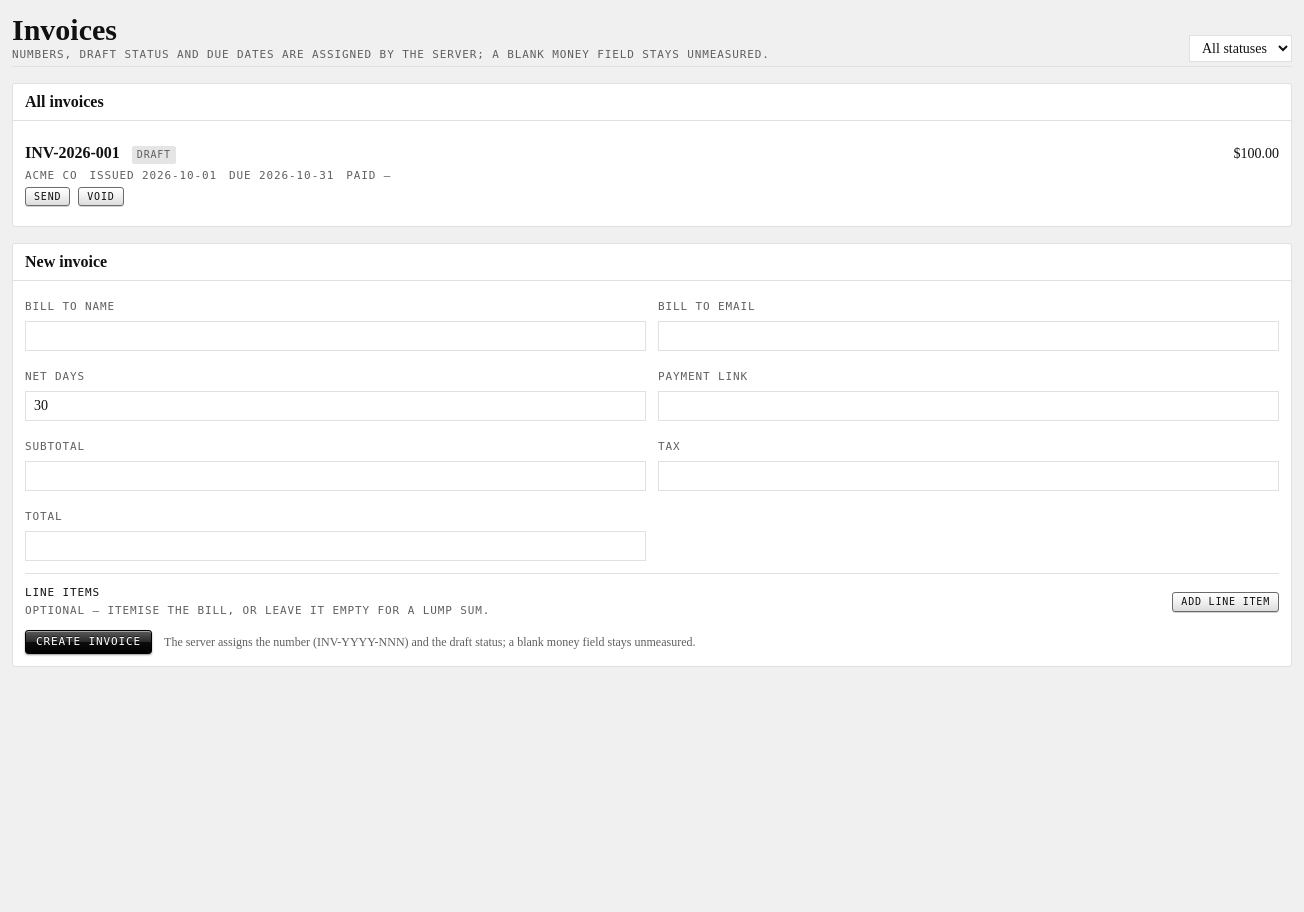
Test: L4-D1 — Send/Void mirror LEGAL_TRANSITIONS (backend stays the arbiter) › the backend is still the arbiter: a sent-invoice send refusal renders by name
The image size is (1304, 912).
Step 1. Click the button "Send" → (48, 196), box [25,186,70,206]
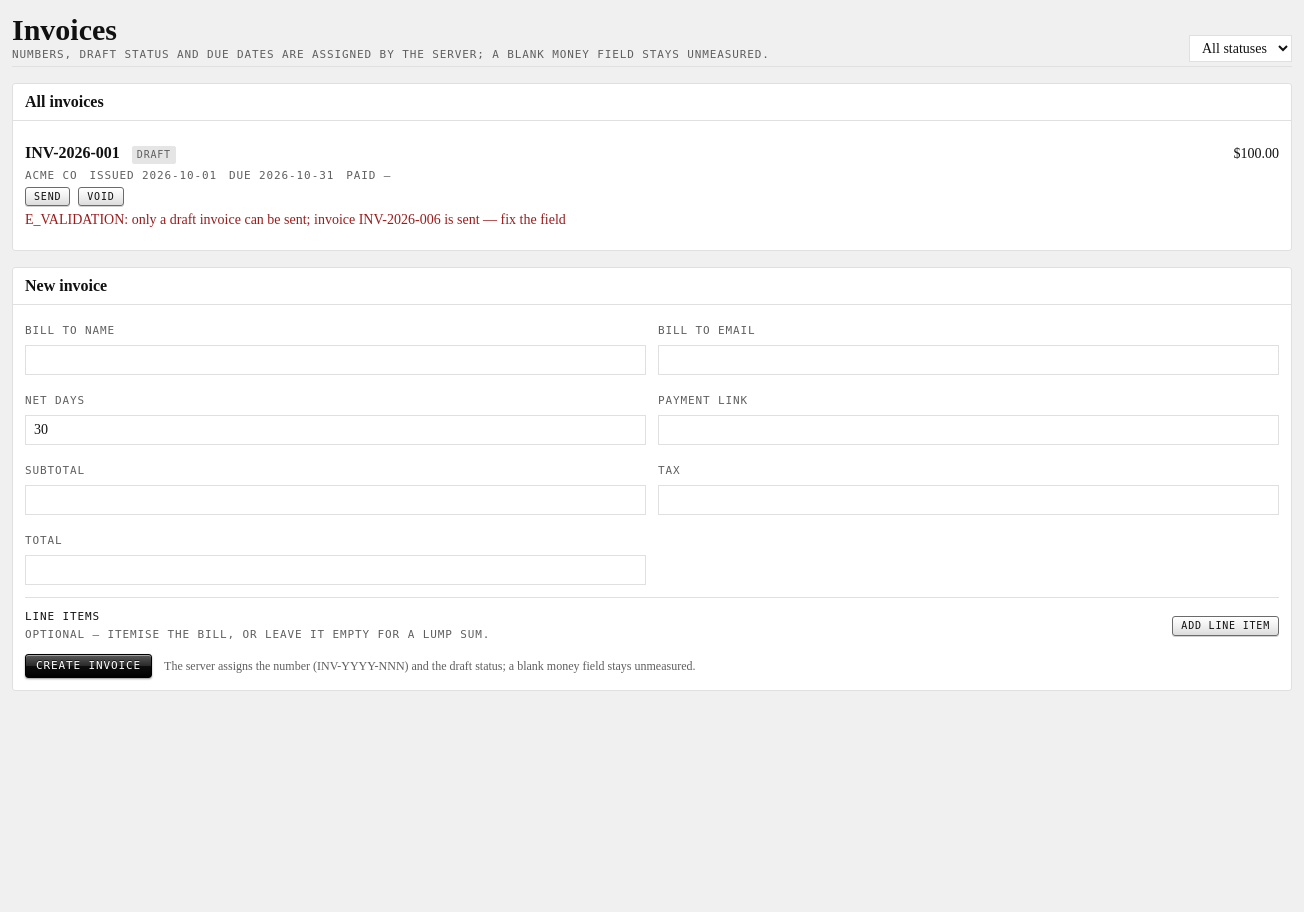
expect the message with test id "invoice-action-error-6" shows "E_VALIDATION: only a draft invoice can be sent; invoice INV-2026-006 is sent — fix the field": met, box [25,212,566,227]
